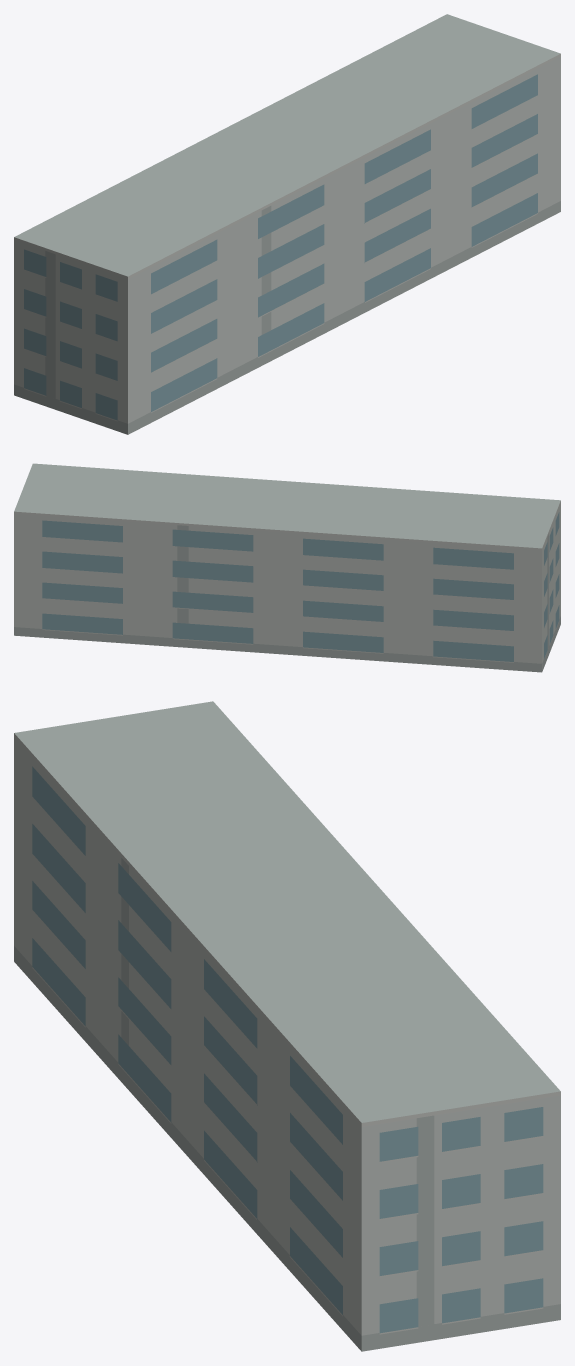
File: residential-c4978b2d-1e74-453c-8966-f7546a560ff3.glb
3 views of the same model, one above another, from view 1: azimuth 30°, elevation 25°; view 2: azimuth 150°, elevation 25°; view 3: azimuth 270°, elevation 25° (orthographic). The views are drawn at different scales.
Visible parts, largest first — view 1: residential-c4978b2d-1e74-453c-8966-f7546a560ff3.tmp; view 2: residential-c4978b2d-1e74-453c-8966-f7546a560ff3.tmp; view 3: residential-c4978b2d-1e74-453c-8966-f7546a560ff3.tmp.
Part boxes in pixels (x1,y1,x2,y2): residential-c4978b2d-1e74-453c-8966-f7546a560ff3.tmp: (14, 14, 560, 434); residential-c4978b2d-1e74-453c-8966-f7546a560ff3.tmp: (14, 463, 560, 672); residential-c4978b2d-1e74-453c-8966-f7546a560ff3.tmp: (14, 701, 560, 1351).
Bounding box in the file's own units: 55.4 × 14 × 30.36.
